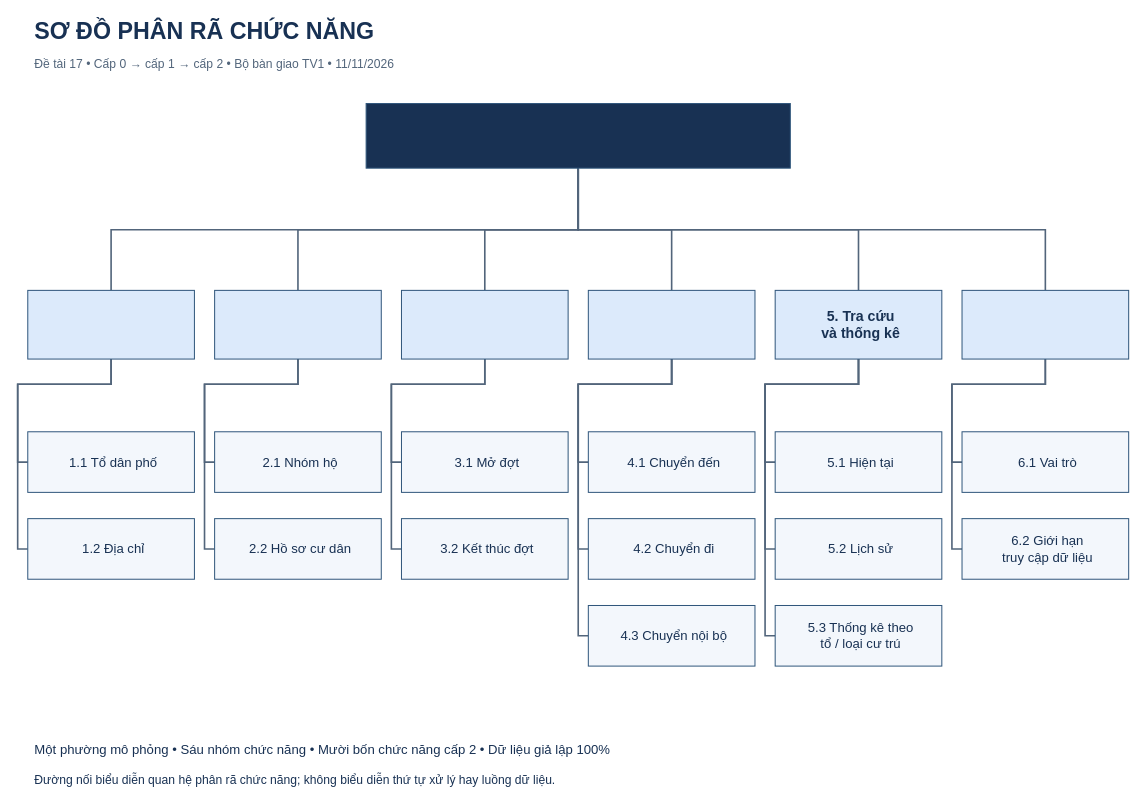
Image size: 1147x808. Some labels were removed from this diagram. Each missing label, with the centre of its shape:
1. Quản lý địa bàn: (110,324)
2. Quản lý hộ và cư dân: (297,324)
3. Quản lý quá trình cư trú: (484,324)
4. Ghi nhận biến động: (671,324)
6. Quản trị và bảo mật: (1045,324)
QUẢN LÝ CƯ DÂN VÀ BIẾN ĐỘNG CƯ TRÚ: (577,135)
